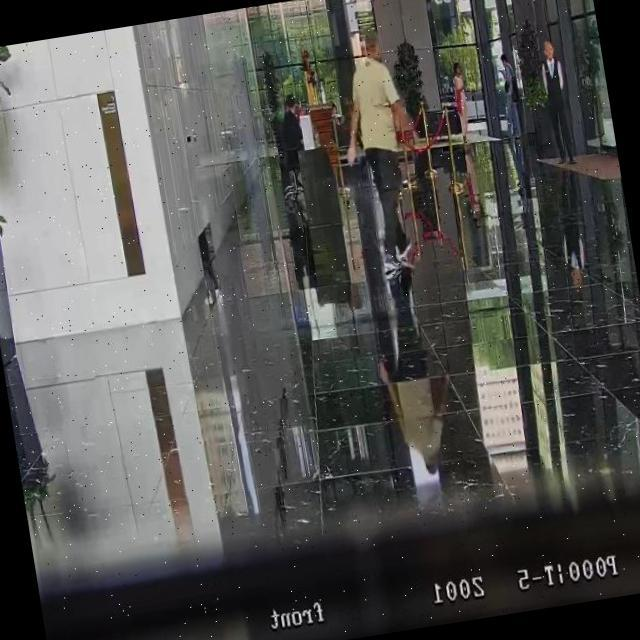person: (328, 24, 431, 279), (536, 36, 580, 166), (496, 50, 526, 143), (450, 59, 475, 144), (276, 95, 304, 149)
